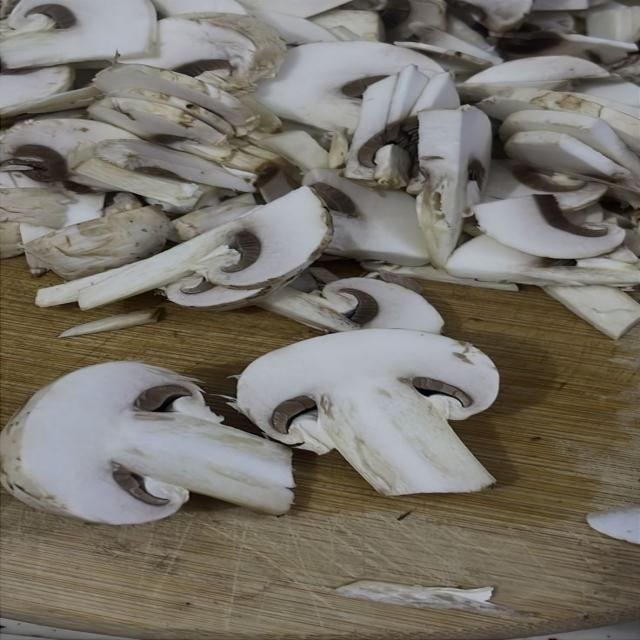champignon mushrooms: (0, 362, 293, 524), (237, 329, 498, 495), (72, 187, 331, 308), (162, 272, 443, 333), (255, 42, 442, 131), (345, 66, 459, 187), (304, 170, 428, 265), (129, 13, 286, 88), (418, 106, 491, 267), (94, 65, 258, 133), (0, 0, 156, 68), (478, 87, 639, 152), (25, 207, 170, 279), (505, 131, 639, 205), (446, 235, 639, 286), (474, 195, 625, 258), (0, 119, 137, 187), (500, 111, 639, 175), (94, 140, 255, 191), (72, 157, 212, 210), (88, 96, 227, 147), (322, 278, 443, 333), (459, 56, 609, 100), (484, 160, 607, 211), (543, 286, 639, 339), (361, 261, 518, 291), (396, 28, 502, 72), (498, 31, 637, 64), (173, 195, 258, 242), (160, 275, 270, 311), (395, 42, 491, 76), (0, 86, 101, 118), (0, 66, 74, 109), (59, 308, 163, 337), (0, 188, 73, 228), (258, 131, 328, 172), (254, 11, 338, 45), (449, 0, 533, 31), (310, 9, 384, 41), (586, 1, 639, 42), (586, 506, 640, 544), (575, 75, 639, 106), (241, 0, 343, 18), (152, 0, 248, 17), (0, 220, 23, 259)
